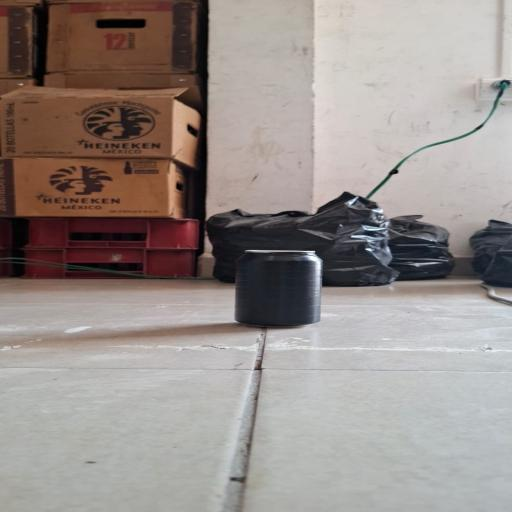LATA: (232, 247, 328, 332)
